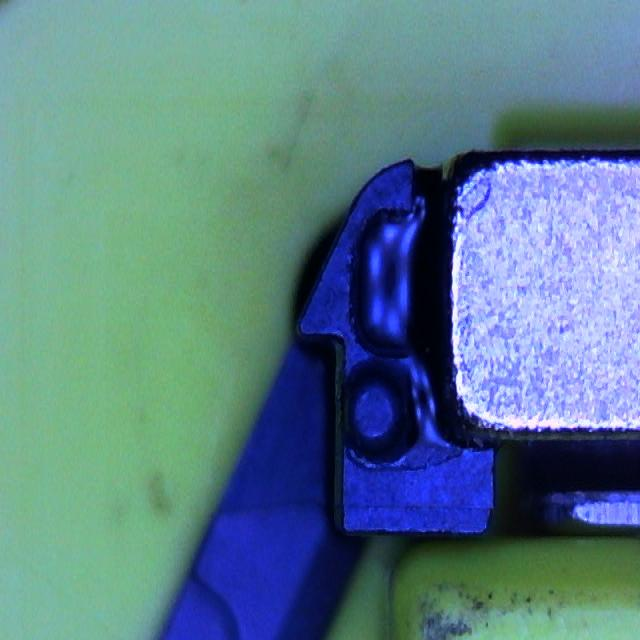over: (346, 195, 428, 361)
